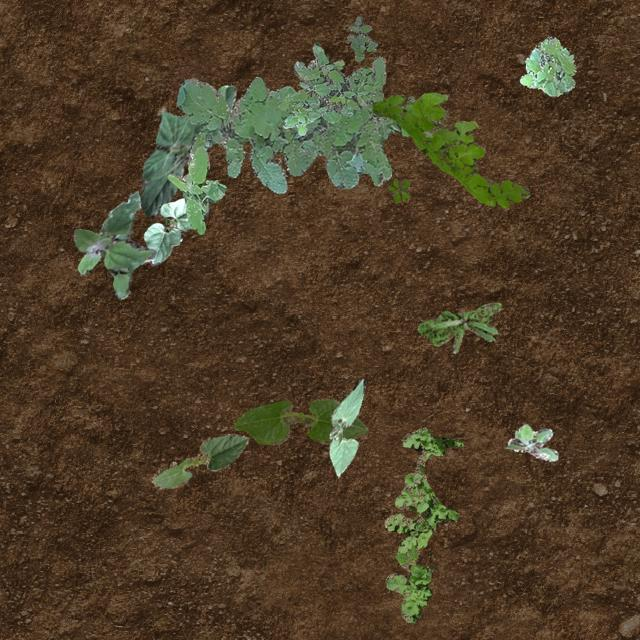crop: (140, 84, 234, 216), (232, 396, 366, 444), (150, 432, 248, 488), (143, 197, 210, 264), (328, 378, 364, 474)
weed: (176, 56, 414, 192), (372, 92, 528, 206), (384, 426, 462, 622), (72, 190, 156, 298), (278, 42, 374, 134), (167, 144, 224, 233), (416, 302, 501, 352), (518, 34, 574, 94), (504, 422, 556, 460), (346, 15, 376, 60), (386, 178, 409, 202)
